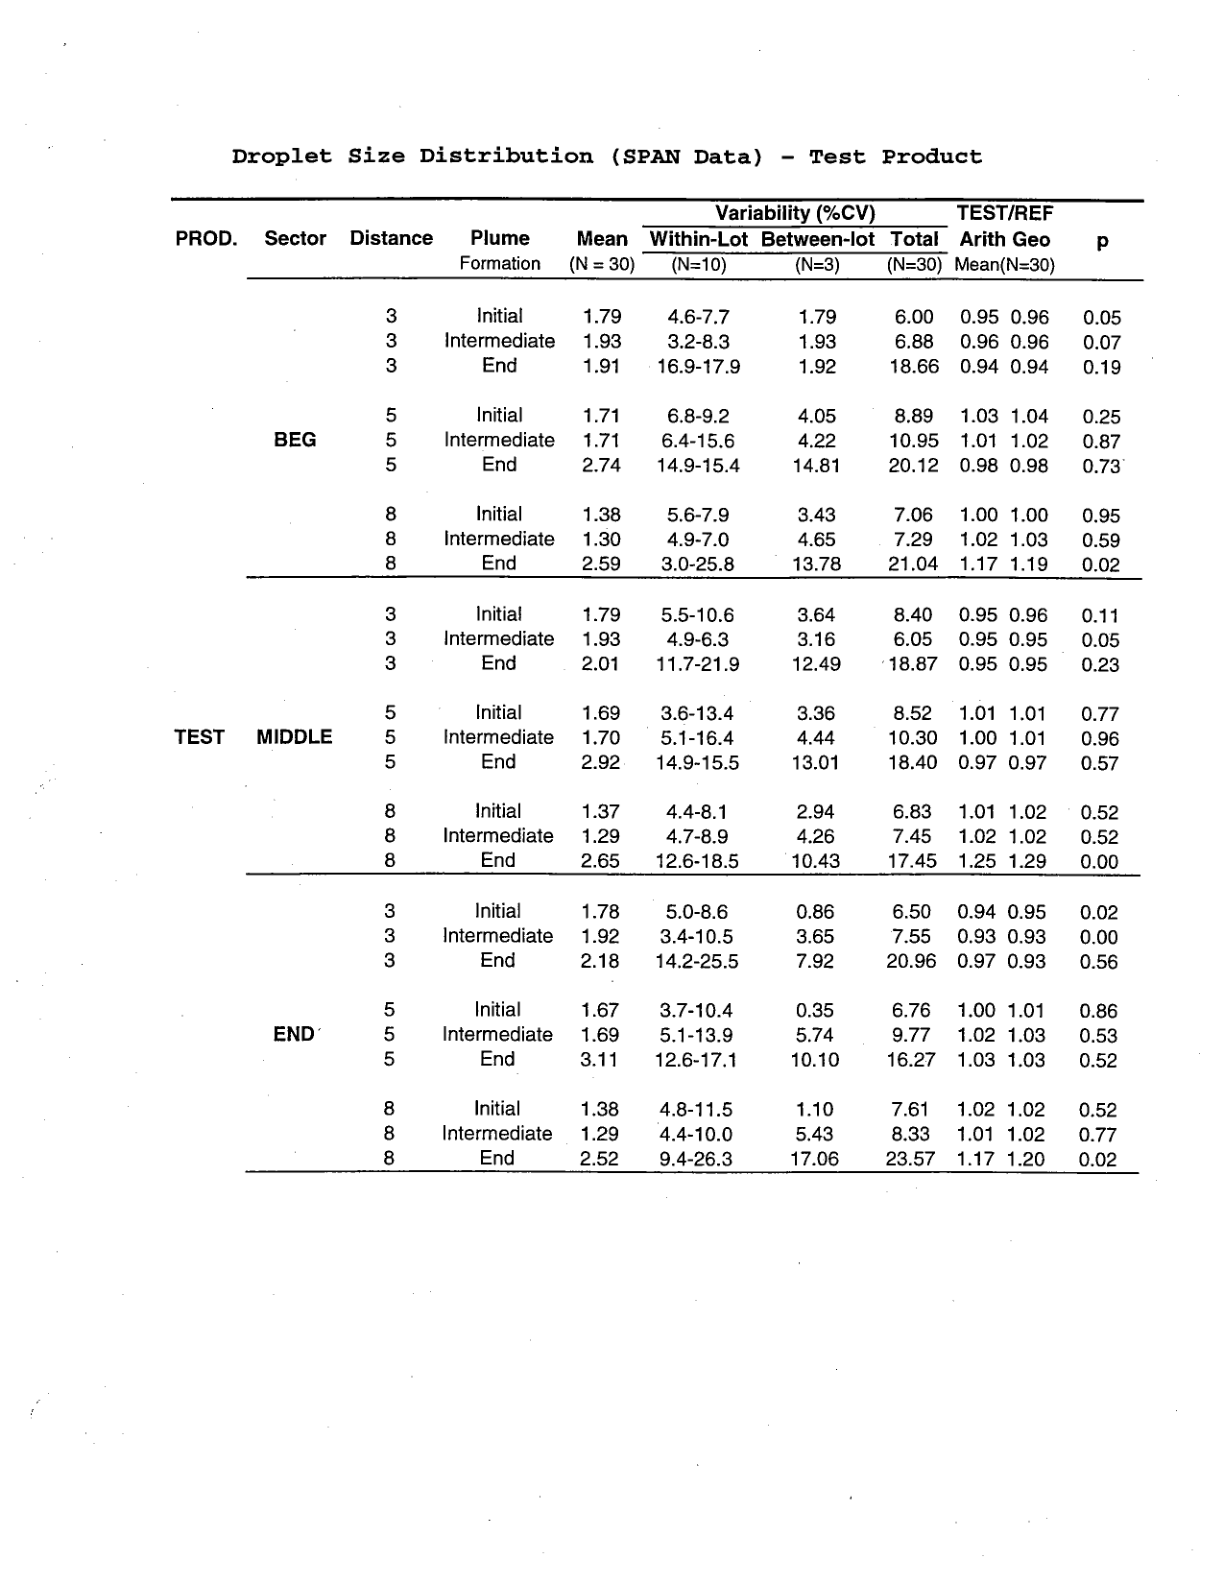partial_lined_merged_cells: (166, 192, 1152, 1180)
